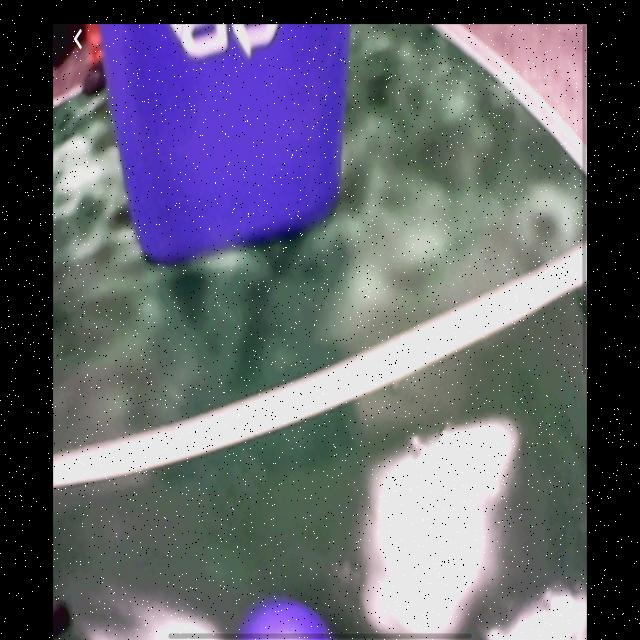ball: (240, 600, 333, 640)
